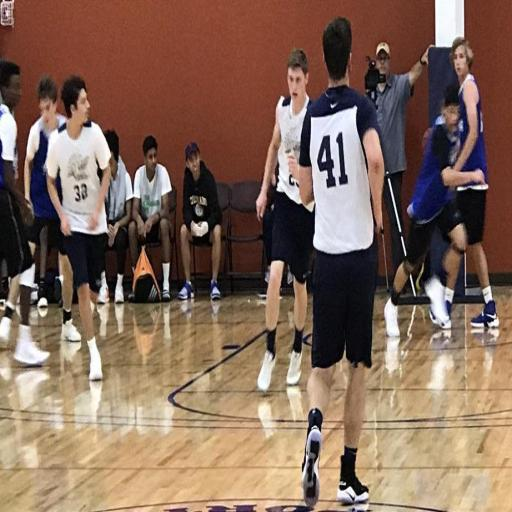person: (289, 18, 384, 507), (385, 85, 483, 337), (256, 49, 314, 391), (47, 76, 110, 380), (24, 76, 81, 341), (0, 61, 49, 366), (451, 38, 499, 328), (376, 42, 429, 271), (129, 136, 171, 302), (178, 143, 222, 300), (105, 131, 133, 303)
